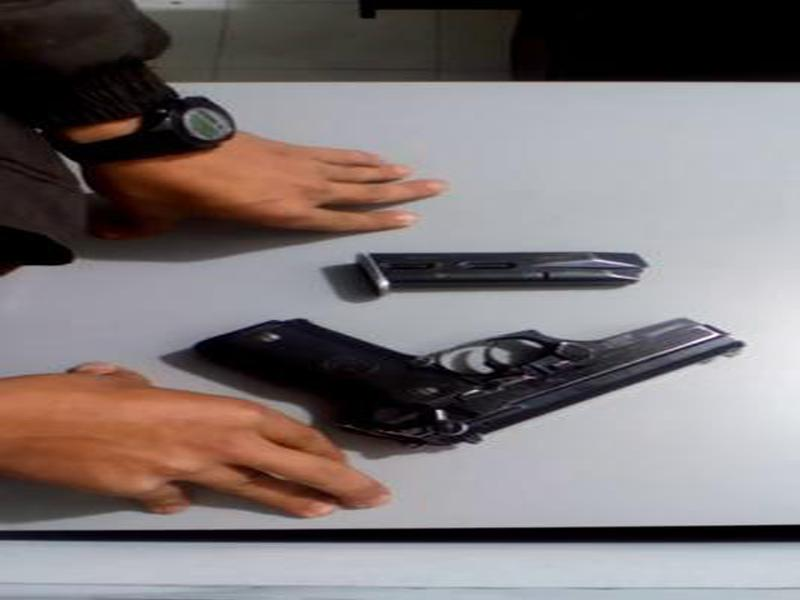Pistola: (173, 284, 735, 432)
